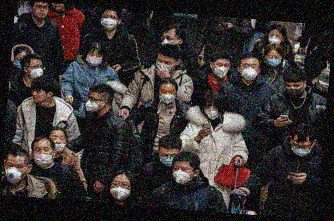mask_weared_incorrect: (49, 134, 67, 153)
with_mask: (109, 179, 132, 201), (171, 165, 195, 186), (33, 145, 55, 167), (5, 161, 26, 184), (154, 58, 175, 76), (158, 87, 177, 106), (239, 62, 258, 81), (158, 150, 179, 167), (290, 142, 313, 157), (284, 82, 304, 99), (100, 14, 118, 31), (213, 61, 230, 79), (84, 94, 100, 113), (160, 34, 179, 50), (204, 104, 220, 121), (85, 52, 103, 67), (30, 62, 44, 80), (266, 53, 281, 68), (267, 32, 282, 45), (13, 56, 25, 71)
without_mask: (33, 3, 49, 20), (31, 89, 46, 103)
